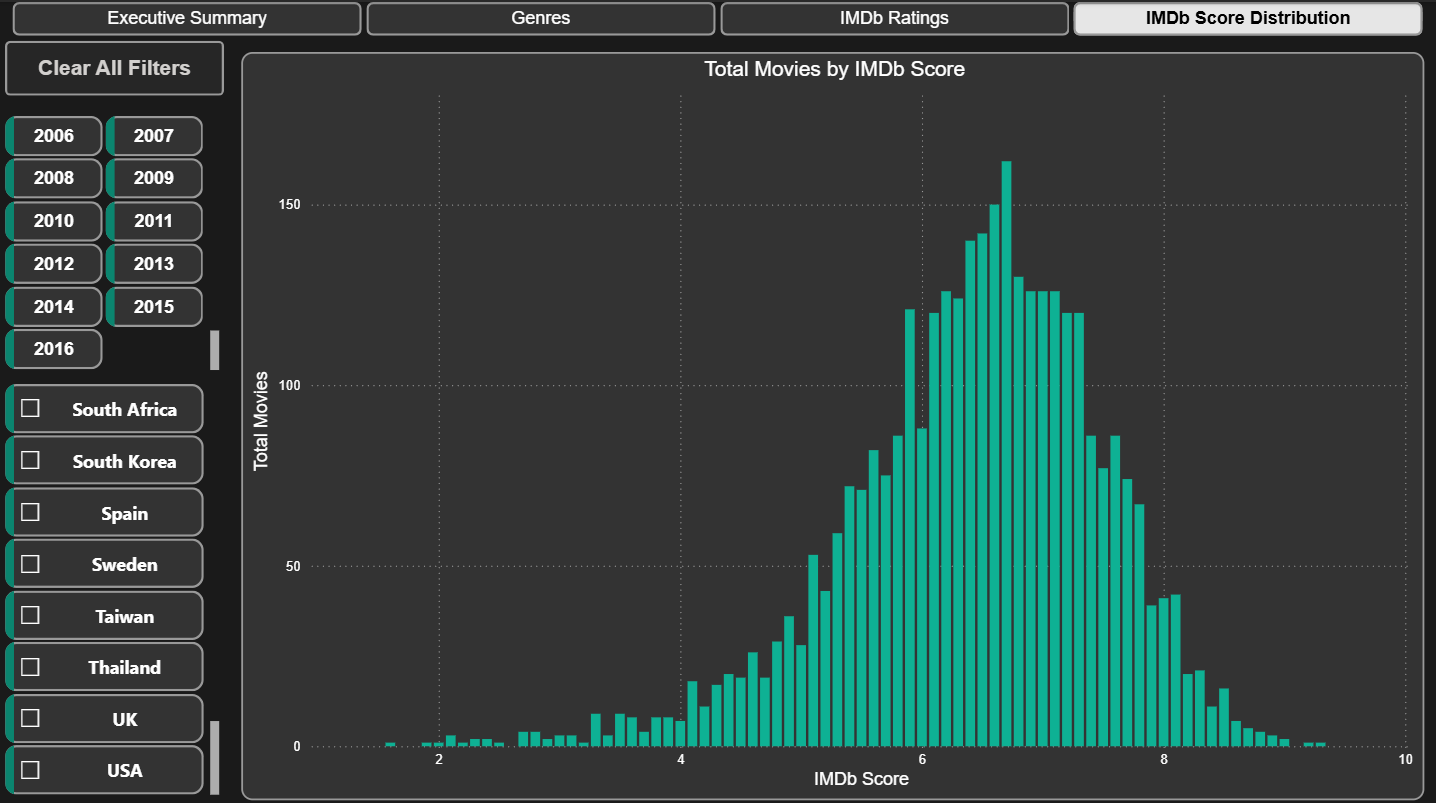

The dashboard page shown, as its layout file describes it:
{"tool":"powerbi","page":{"name":"IMDb Score Distribution","canvas":[1280,720],"ordinal":3},"visuals":[{"type":"pageNavigator","box":[11,0,1258.3,30.2],"z":0},{"type":"actionButton","box":[4.9,34.4,195.1,49.1],"z":1000},{"type":"advancedSlicerVisual","fields":{"Values":["cleaned_movies.title_year"]},"box":[0,95.7,200,238],"z":3000},{"type":"listSlicer","fields":{"Values":["cleaned_movies.country"]},"box":[0,333.7,200,376.7],"z":3500},{"type":"columnChart","fields":{"Y":["_Measures.Total Movies"],"Category":["cleaned_movies.imdb_score"]},"box":[214.7,44.2,1054,666.3],"z":4000}]}

Visuals, with their boxes in screenshot pixels (x1, y1, x2, y2), scaled from the page's 1280x720 canvas onto the 1436x803 screenshot:
pageNavigator: x1=12 y1=0 x2=1424 y2=34
actionButton: x1=5 y1=38 x2=224 y2=93
advancedSlicerVisual - cleaned_movies.title_year: x1=0 y1=107 x2=224 y2=372
listSlicer - cleaned_movies.country: x1=0 y1=372 x2=224 y2=792
columnChart - _Measures.Total Movies x cleaned_movies.imdb_score: x1=241 y1=49 x2=1423 y2=792
